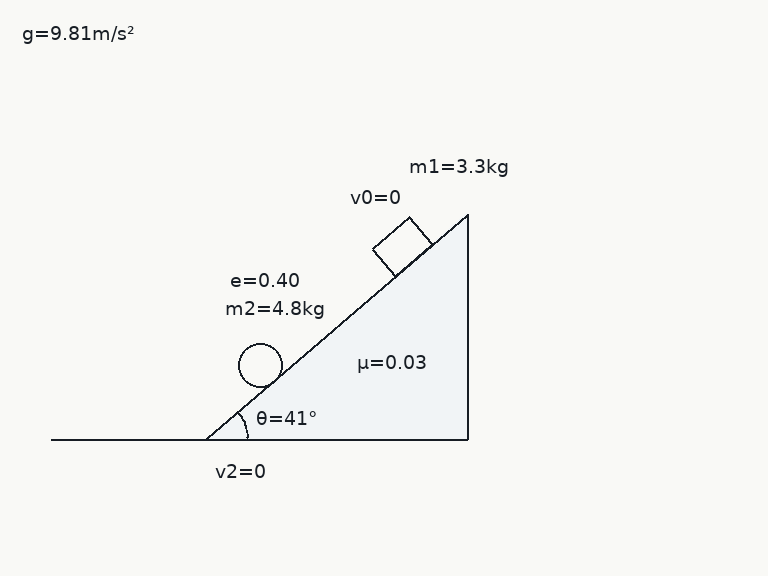ball: (236, 341, 284, 389)
block: (370, 215, 434, 278)
ramp: (206, 212, 469, 441)
